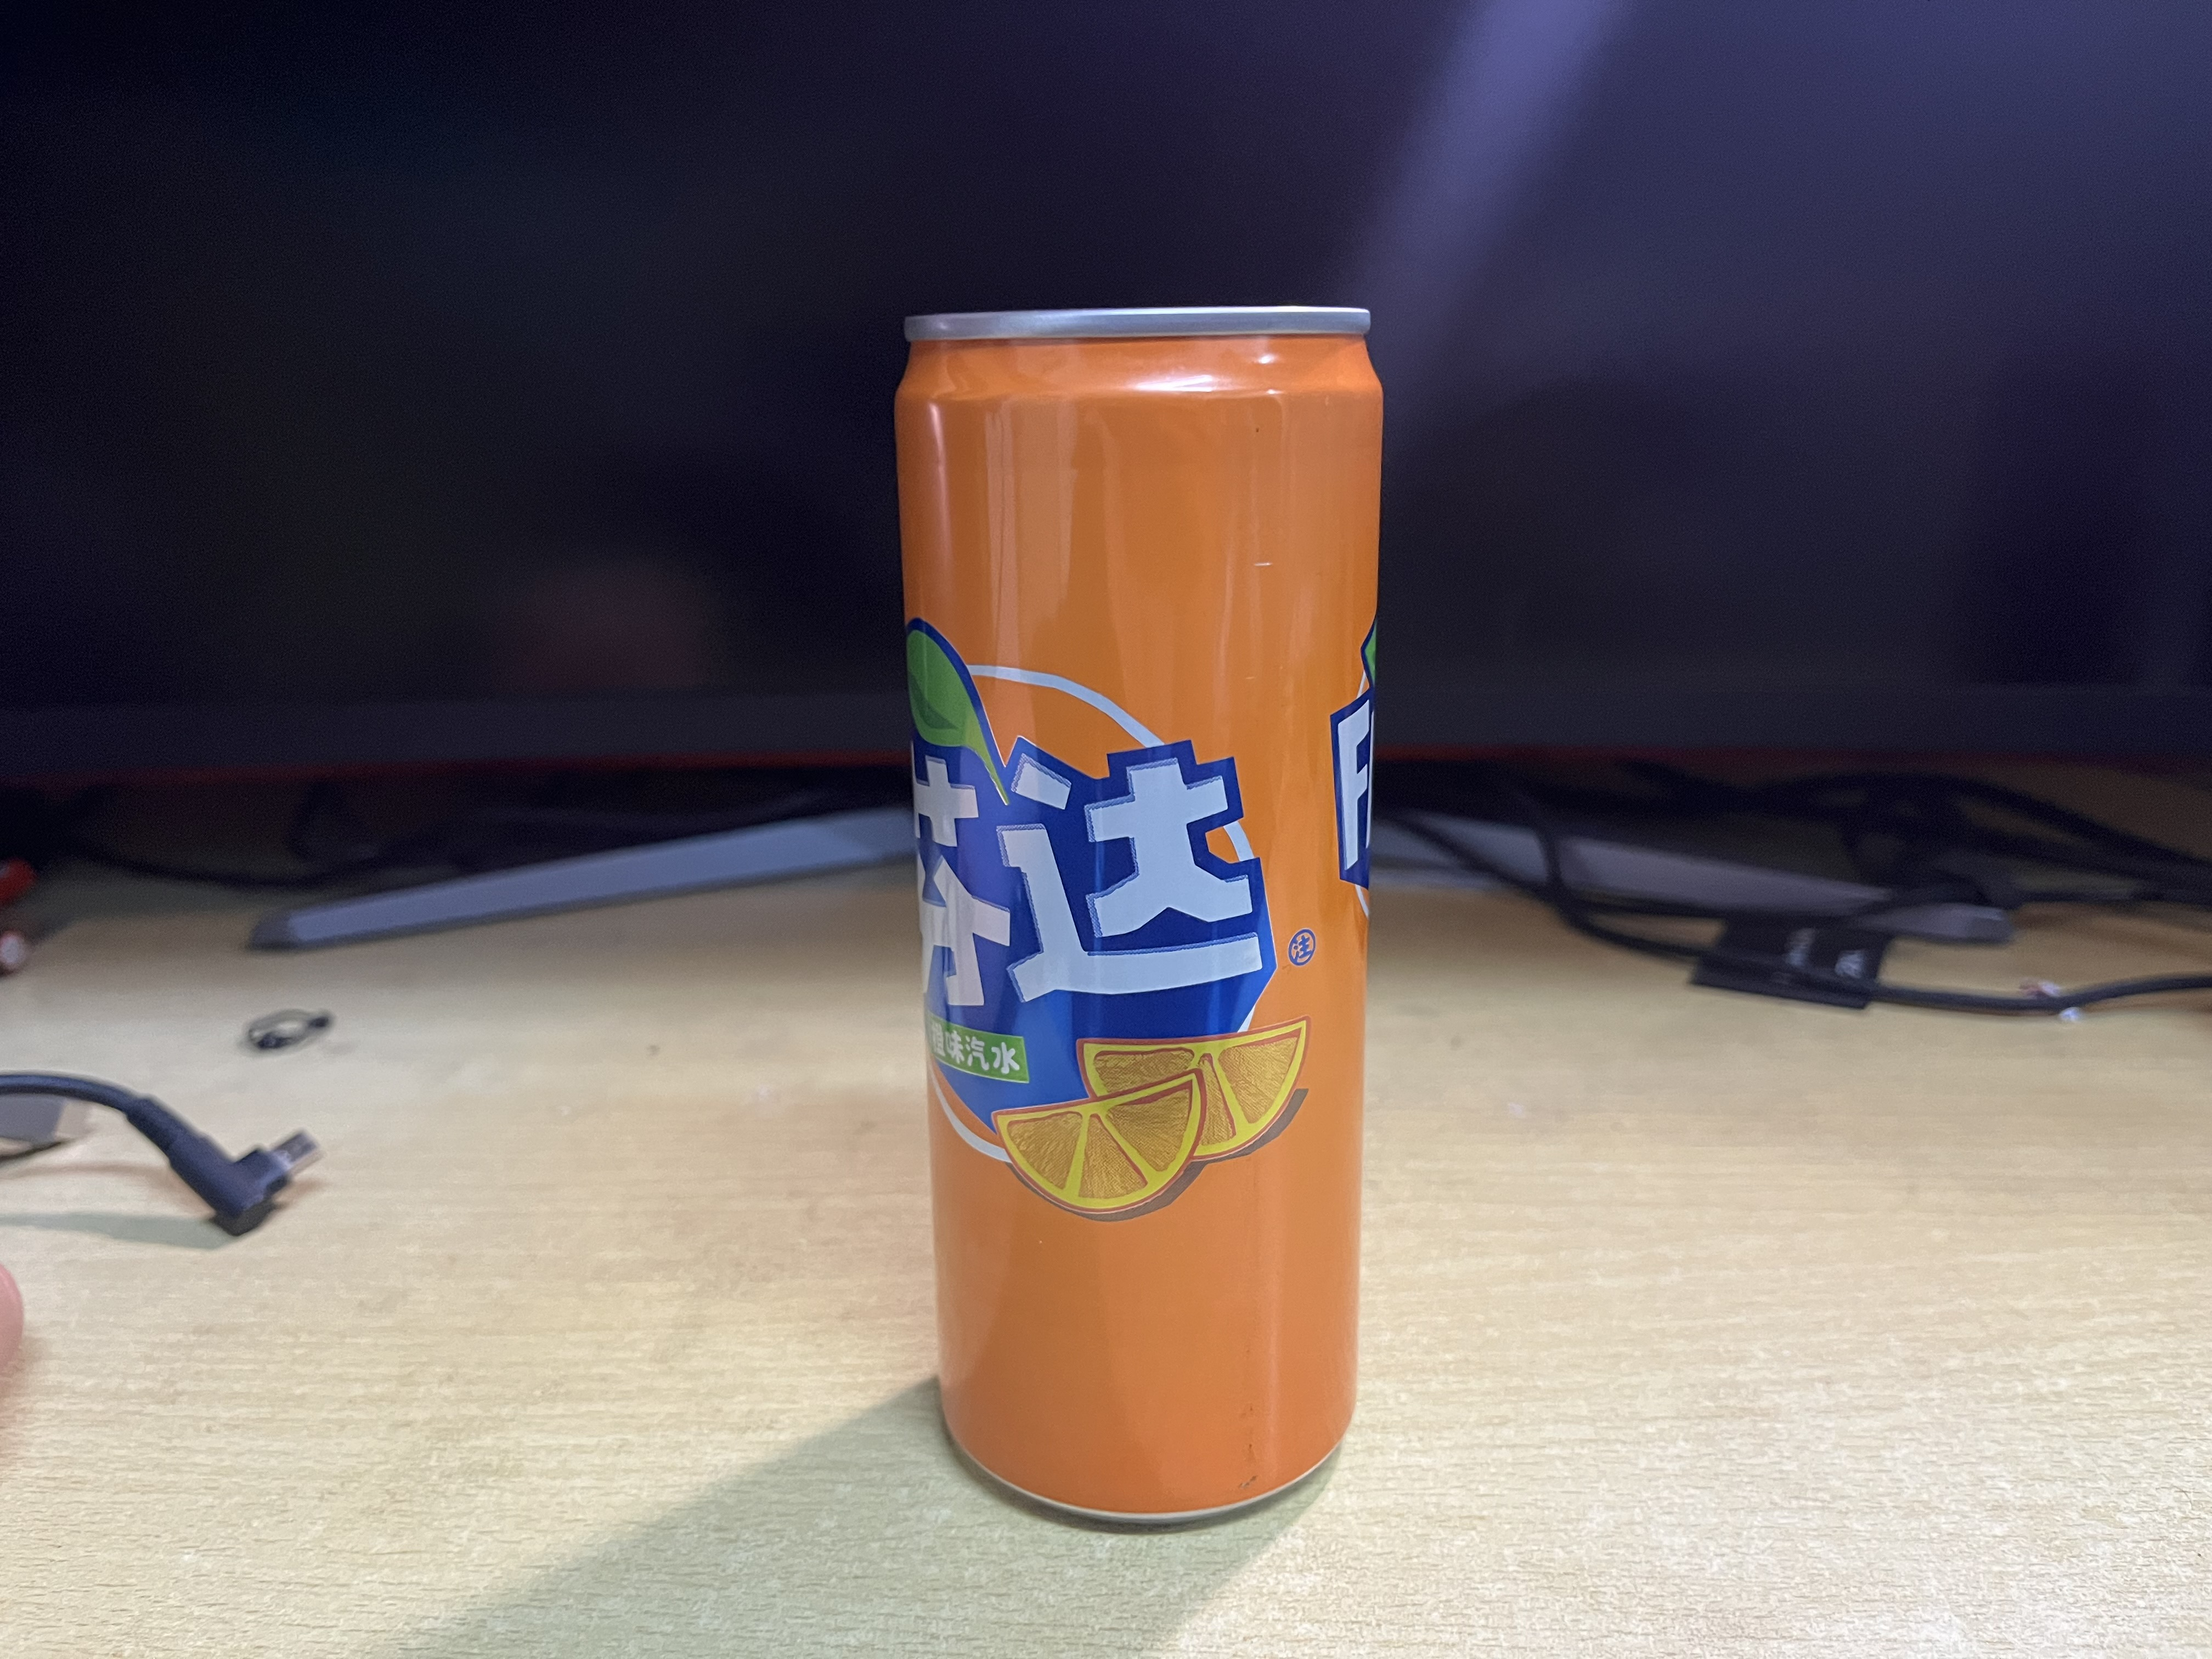FANTA_Orange: (892, 298, 1383, 1532)
